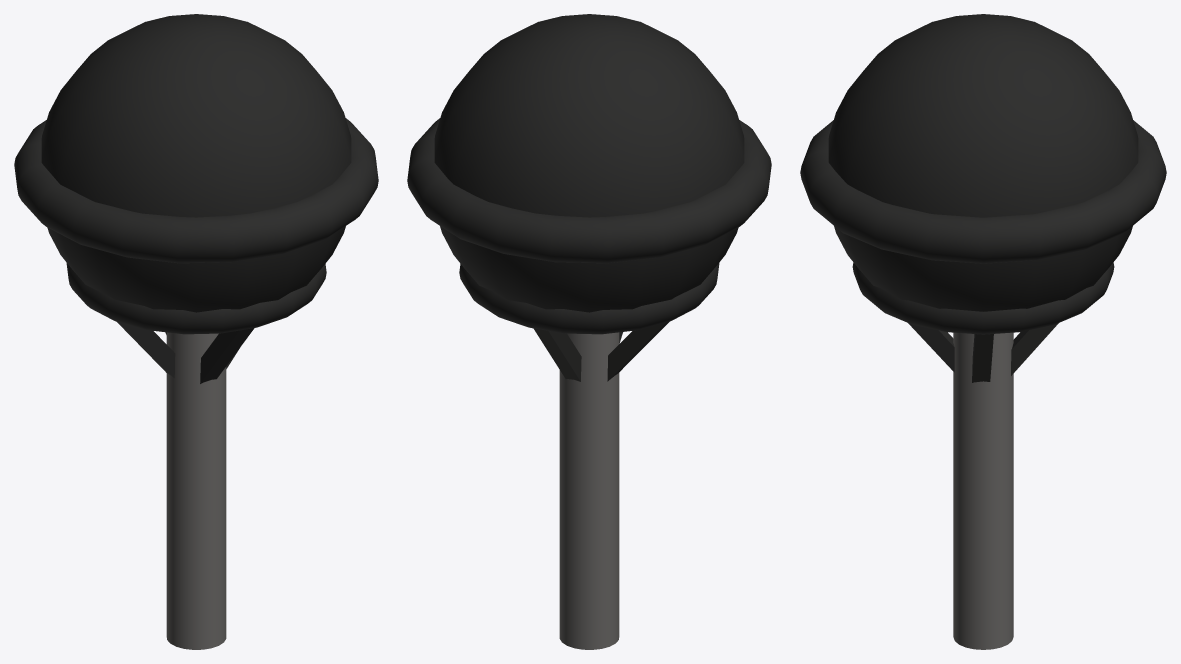
Rendered from black.fbx.
3 renders of one model, left to right at view 1: azimuth 30°, elevation 25°; view 2: azimuth 150°, elevation 25°; view 3: azimuth 270°, elevation 25°, orthographic.
Parts seen in each view (by area): view 1: Black; view 2: Black; view 3: Black.
Boxes of the visible parts, x1=… form: Black: x1=14, y1=14, x2=378, y2=649; Black: x1=407, y1=14, x2=771, y2=649; Black: x1=800, y1=14, x2=1166, y2=649.
Bounding box in the file's own units: 12.42 × 22.78 × 12.42.
